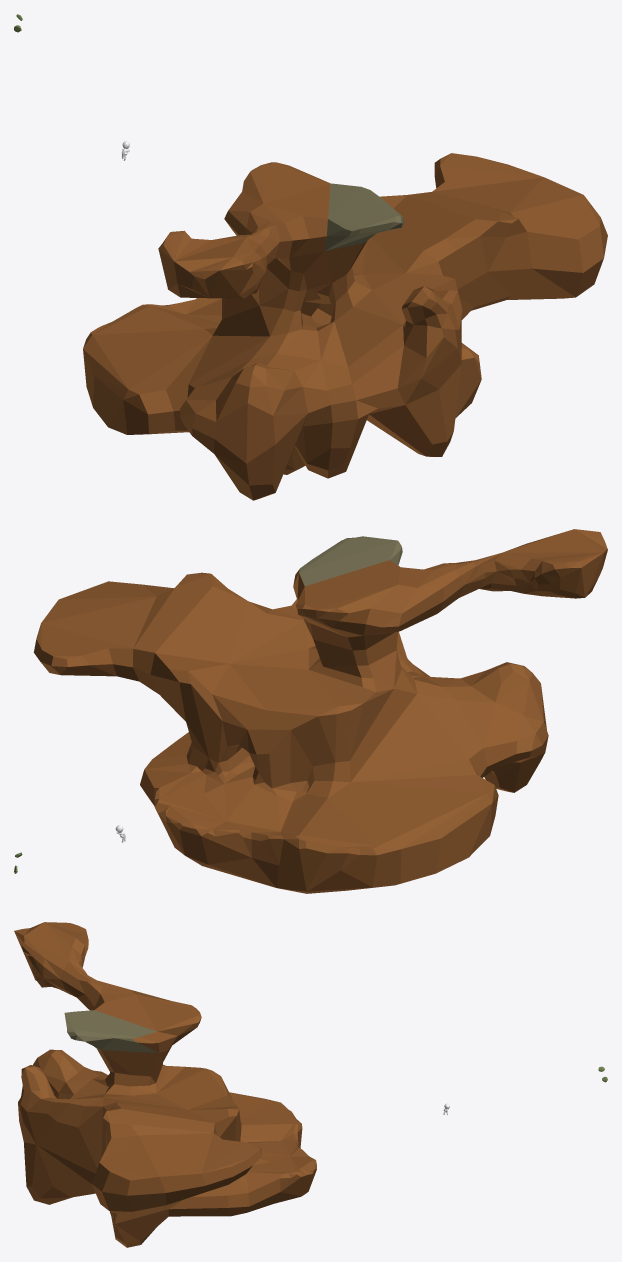
3 views of the same model, one above another, from view 1: azimuth 30°, elevation 25°; view 2: azimuth 150°, elevation 25°; view 3: azimuth 270°, elevation 25° (orthographic). The views are drawn at different scales.
Visible parts, largest first — view 1: Box351_dirt_0, Box351_rock2_0; view 2: Box351_dirt_0, Box351_rock2_0; view 3: Box351_dirt_0, Box351_rock2_0.
Part boxes in pixels (x1=…): Box351_dirt_0: x1=83, y1=153, x2=607, y2=500; Box351_rock2_0: x1=324, y1=183, x2=404, y2=250; Box351_dirt_0: x1=34, y1=529, x2=607, y2=893; Box351_rock2_0: x1=299, y1=536, x2=402, y2=586; Box351_dirt_0: x1=14, y1=922, x2=316, y2=1247; Box351_rock2_0: x1=64, y1=1010, x2=158, y2=1052.
Size of the model in its own units: 4773 by 2828 by 6838.
